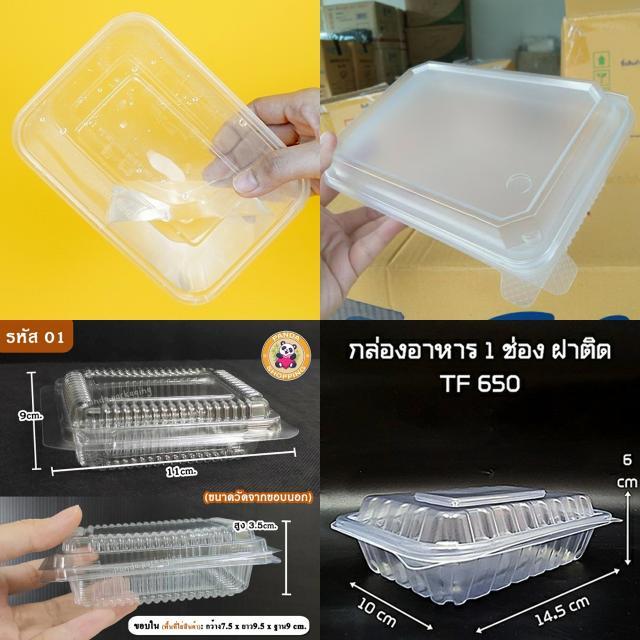Single-Use-Plastic: (14, 15, 308, 303), (325, 61, 634, 307), (331, 486, 619, 605), (41, 368, 299, 466), (41, 518, 280, 608)
